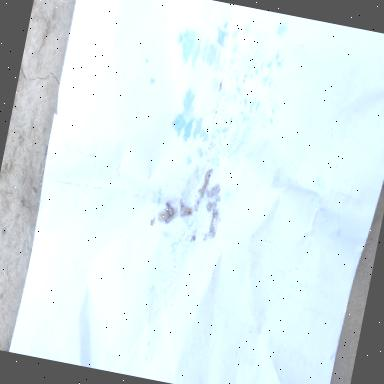pbw: (206, 181, 222, 200), (156, 208, 170, 224), (163, 202, 176, 216), (180, 205, 192, 216)
